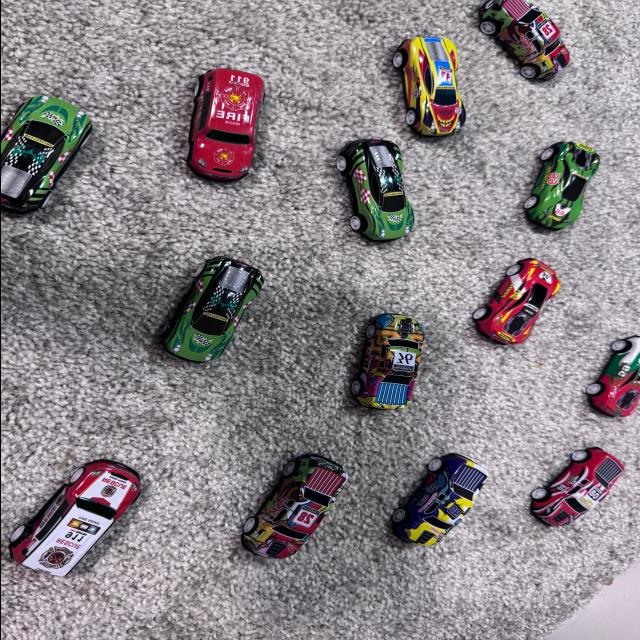Car: (182, 410, 358, 584), (13, 446, 168, 632), (312, 113, 437, 265), (161, 246, 283, 392), (172, 54, 292, 194), (452, 0, 594, 112), (319, 292, 446, 414), (394, 440, 504, 580), (0, 95, 124, 219), (511, 414, 629, 544), (381, 15, 496, 146), (462, 250, 592, 352), (502, 113, 612, 233), (550, 302, 640, 439)
